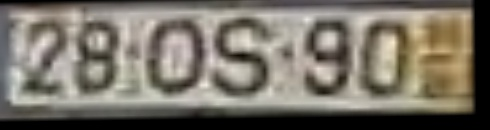0: (360, 18, 413, 104)
2: (21, 16, 72, 99)
8: (72, 17, 126, 101)
9: (302, 16, 359, 103)
O: (140, 16, 212, 100)
S: (209, 14, 278, 105)
